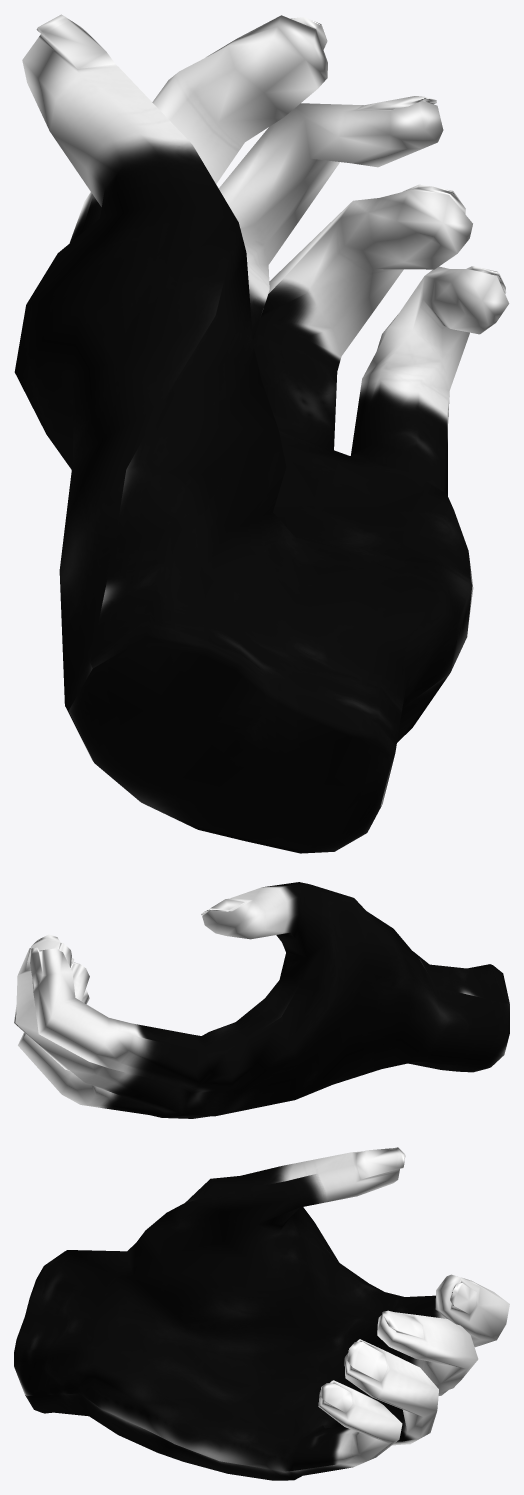
File: hand_l.glb
The picture shows the model from 3 angles, top to bottom: view 1: azimuth 30°, elevation 25°; view 2: azimuth 150°, elevation 25°; view 3: azimuth 270°, elevation 25°; orthographic projection. The views are drawn at different scales.
Parts seen in each view (by area): view 1: L_Hard_Open; view 2: L_Hard_Open; view 3: L_Hard_Open.
Boxes of the visible parts, bbox=[...] form: L_Hard_Open: bbox=[14, 14, 509, 853]; L_Hard_Open: bbox=[14, 882, 509, 1118]; L_Hard_Open: bbox=[14, 1147, 509, 1480].
Size of the model in its own units: 0.1492 by 0.1142 by 0.1835.
1 material, 1 textured.
